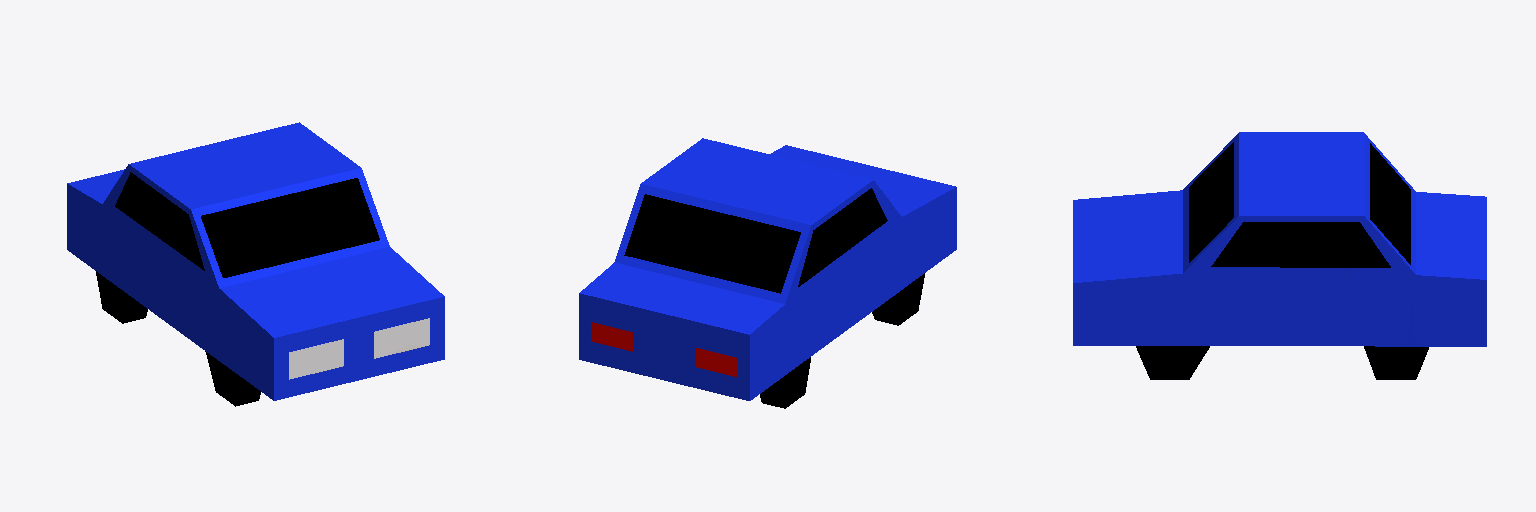
3 renders of one model, left to right at view 1: azimuth 30°, elevation 25°; view 2: azimuth 150°, elevation 25°; view 3: azimuth 270°, elevation 25°, orthographic.
Parts seen in each view (by area): view 1: Car.000; view 2: Car.000; view 3: Car.000.
Boxes of the visible parts, x1,y1,x2,y2 form: Car.000: [67, 122, 444, 406]; Car.000: [579, 138, 956, 408]; Car.000: [1073, 132, 1486, 379].
Bounding box in the file's own units: 0.2947 × 0.2709 × 0.6185.
Materials: 1 (1 with a texture image).